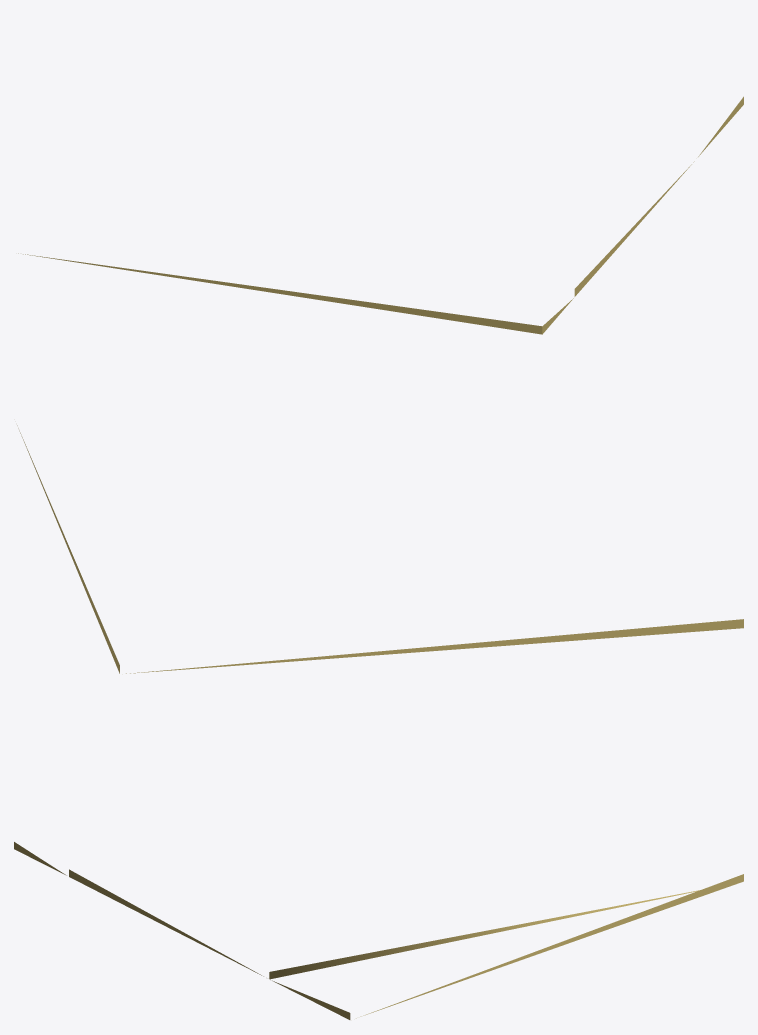
3 views of the same model, one above another, from view 1: azimuth 30°, elevation 25°; view 2: azimuth 150°, elevation 25°; view 3: azimuth 270°, elevation 25° (orthographic). The views are drawn at different scales.
Bounding box in the file's own units: 26.29 × 0.31 × 26.18.
